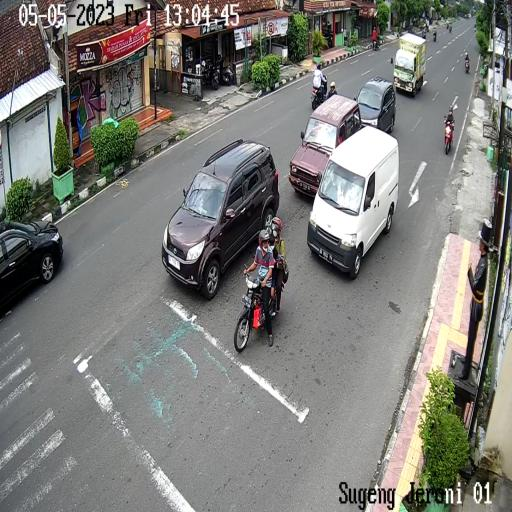mobil: (162, 139, 279, 299), (307, 126, 401, 284), (288, 94, 362, 202), (351, 76, 397, 140), (390, 32, 428, 100)
motor: (234, 258, 289, 356), (306, 73, 328, 109), (442, 112, 458, 157)
